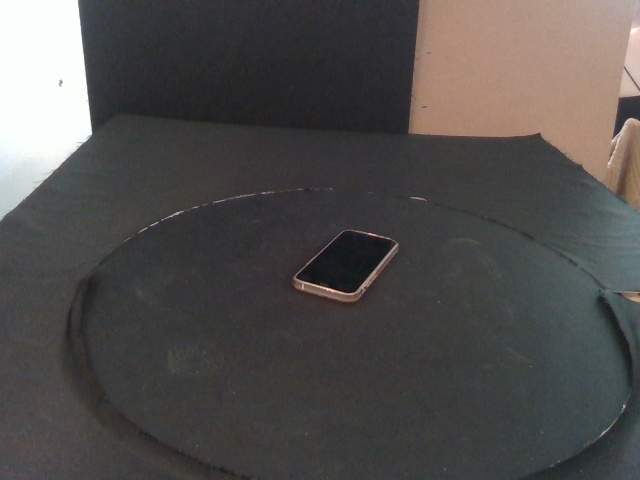phone: (291, 229, 399, 303)
